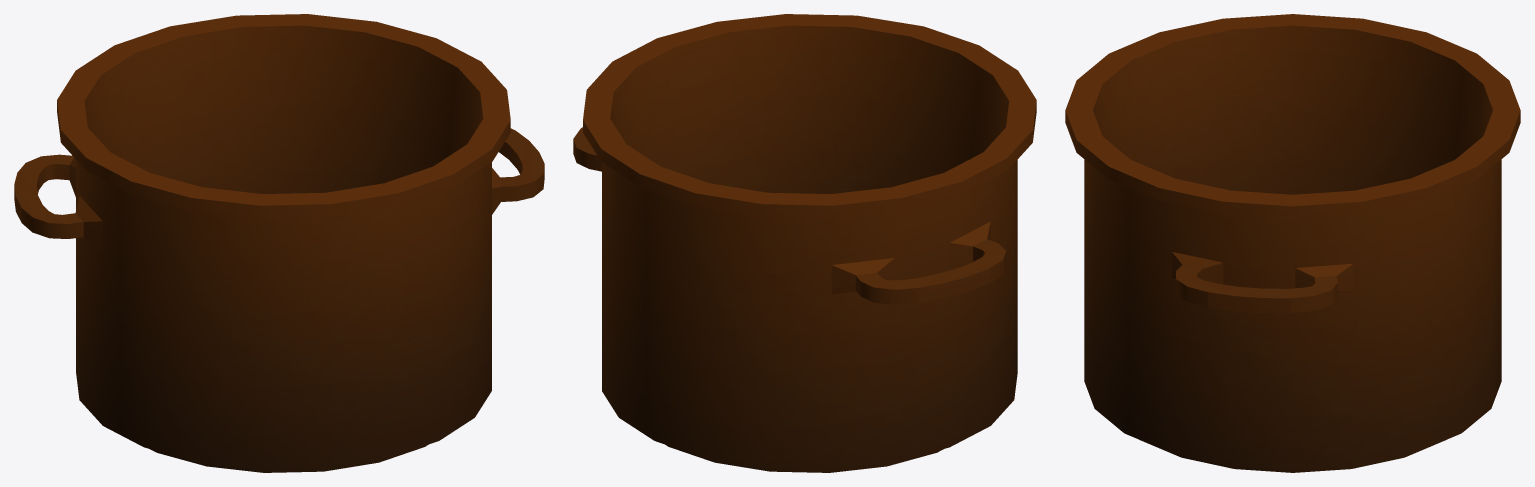
File: Topf_holz.fbx
The picture shows the model from 3 angles, left to right: view 1: azimuth 30°, elevation 25°; view 2: azimuth 150°, elevation 25°; view 3: azimuth 270°, elevation 25°; orthographic projection.
Parts seen in each view (by area): view 1: Topf; view 2: Topf; view 3: Topf.
Boxes of the visible parts, x1,y1,x2,y2 form: Topf: [14, 14, 544, 472]; Topf: [573, 14, 1036, 472]; Topf: [1065, 14, 1520, 472].
Bounding box in the file's own units: 8.36 × 5 × 7.3.
